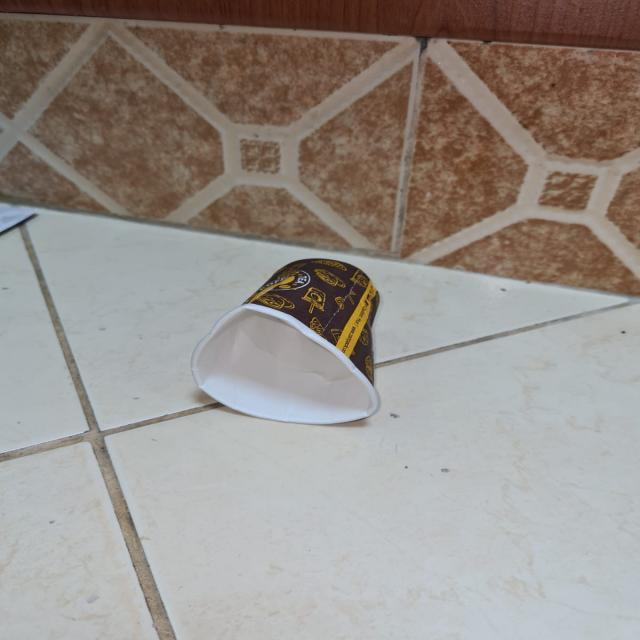cups: (185, 256, 388, 422)
